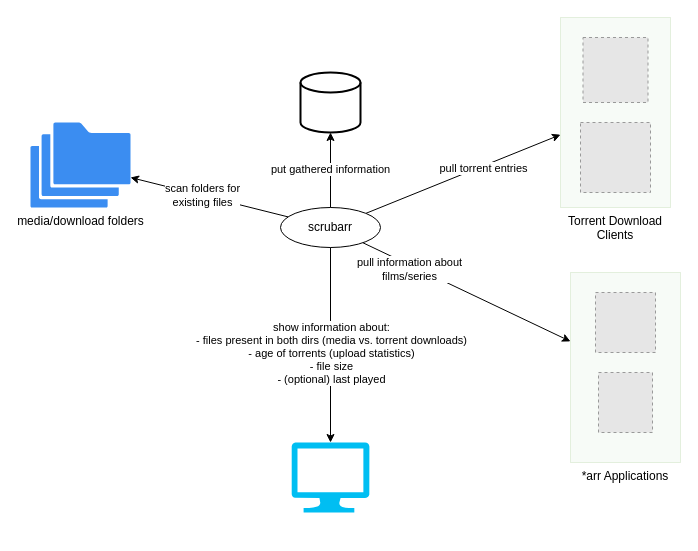
Image size: 698x551. Some labels were removed from this diagram. Grey dashed boxes stand in for pictures. Here are the shapes that lost their labels. From the top down, the centre of each, then its label:
At pixel 330 102: "SQLite".
At pixel 330 477: "Frontend App".
